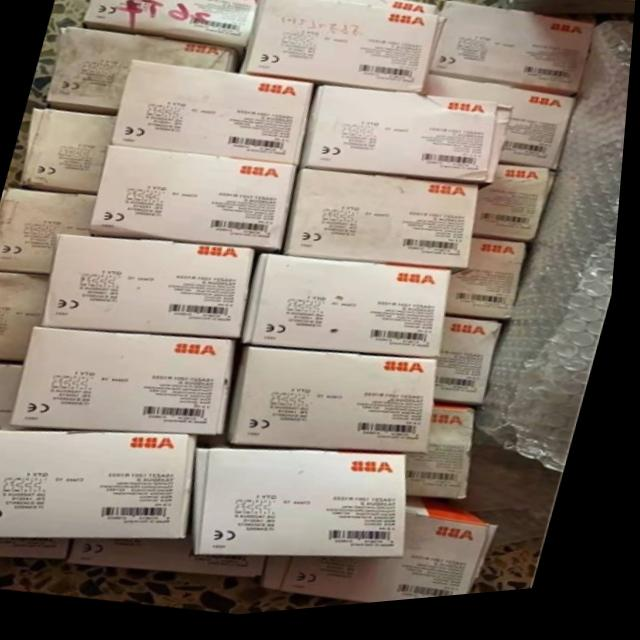box: (199, 451, 415, 566), (21, 328, 242, 440), (273, 504, 505, 610), (231, 352, 447, 462), (302, 93, 515, 201), (94, 149, 301, 258), (249, 257, 455, 366), (0, 432, 203, 542), (113, 62, 317, 171), (51, 237, 260, 343), (290, 173, 480, 287), (245, 0, 442, 100), (46, 26, 242, 118), (430, 7, 596, 105), (423, 82, 583, 183), (83, 0, 269, 52), (78, 541, 279, 586), (0, 187, 101, 274), (20, 108, 117, 196), (476, 174, 561, 253), (413, 416, 482, 506), (453, 249, 529, 328), (441, 327, 508, 413), (0, 270, 51, 363), (0, 363, 31, 428), (0, 538, 82, 561)
